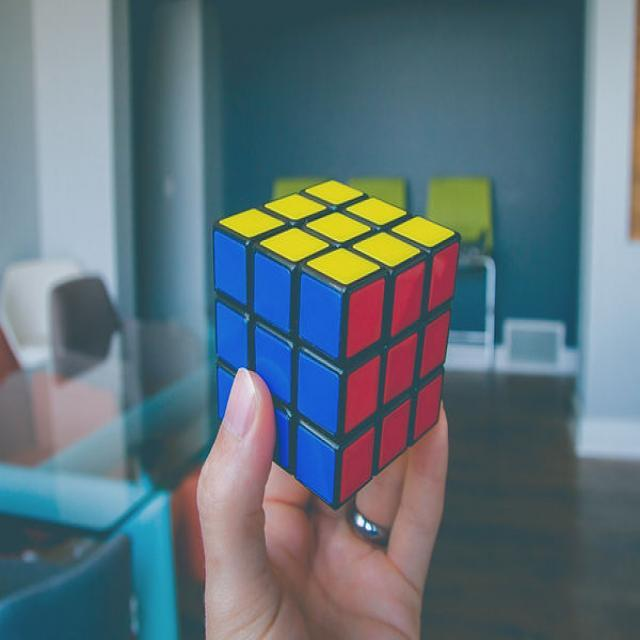Rub: (207, 173, 460, 511)
